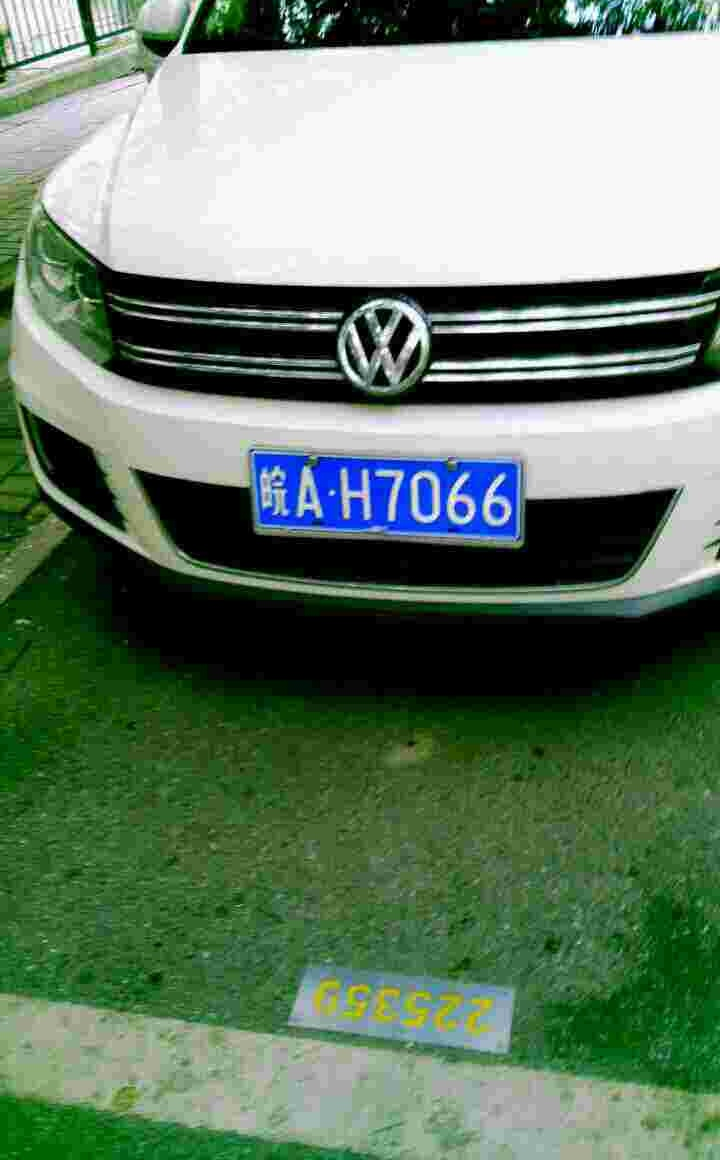license_plate: (257, 450, 520, 546)
